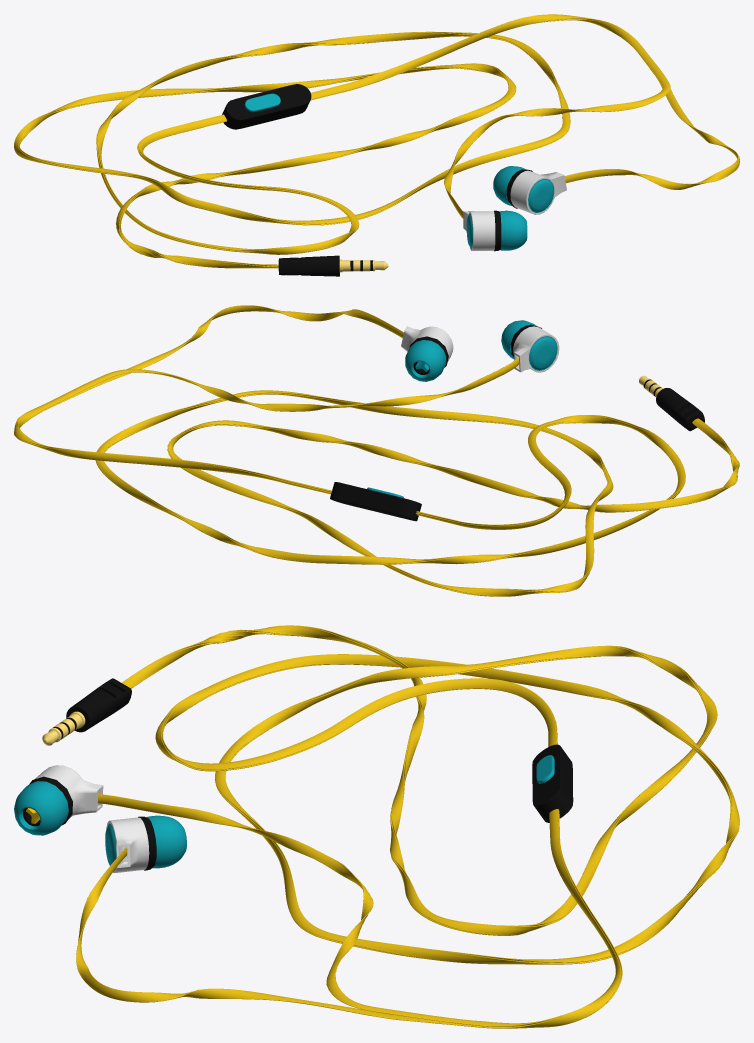
File: earphones.glb
3 views of the same model, one above another, from view 1: azimuth 30°, elevation 25°; view 2: azimuth 150°, elevation 25°; view 3: azimuth 270°, elevation 25° (orthographic). The views are drawn at different scales.
Visible parts, largest first — view 1: cord_Mat01_0, isol_Mat05_0, button_Mat03_0, speaker_R_Mat02_0, plug_Mat04_0; view 2: cord_Mat01_0, isol_Mat05_0, button_Mat03_0, speaker_R_Mat02_0; view 3: cord_Mat01_0, isol_Mat05_0, button_Mat03_0, speaker_R_Mat02_0, plug_Mat04_0.
Boxes of the visible parts, box(x1,y1,x2,y2) form: cord_Mat01_0: box(14, 14, 739, 268); isol_Mat05_0: box(222, 84, 532, 276); button_Mat03_0: box(244, 93, 554, 250); speaker_R_Mat02_0: box(463, 170, 566, 250); plug_Mat04_0: box(339, 259, 388, 272); cord_Mat01_0: box(14, 305, 739, 596); isol_Mat05_0: box(330, 324, 704, 521); button_Mat03_0: box(367, 320, 557, 497); speaker_R_Mat02_0: box(401, 326, 559, 372); cord_Mat01_0: box(26, 625, 739, 1028); isol_Mat05_0: box(23, 678, 573, 870); button_Mat03_0: box(14, 755, 554, 870); speaker_R_Mat02_0: box(35, 765, 149, 872); plug_Mat04_0: box(42, 711, 85, 745).
Bounding box in the file's own units: 3 × 0.1777 × 2.36.
